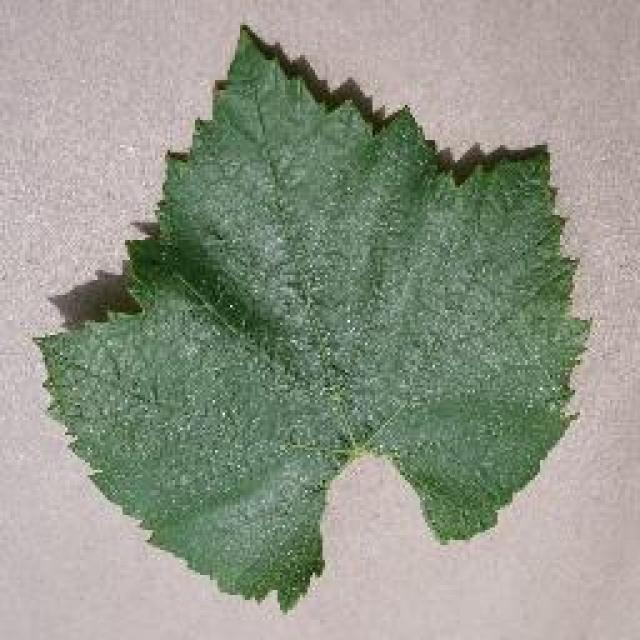Grape___healthy: (40, 30, 588, 608)
